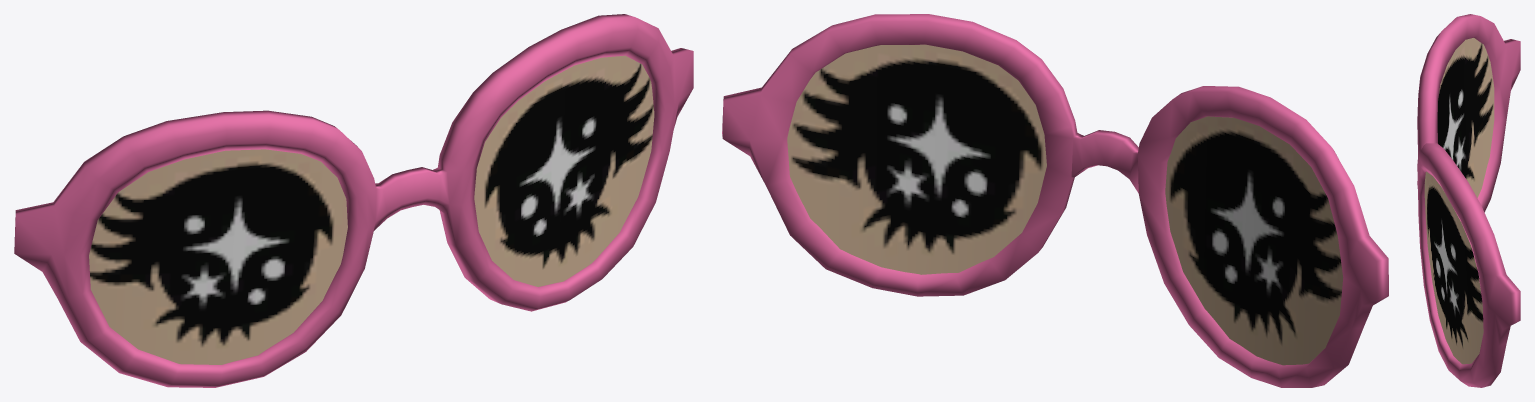
Rendered from AccessoryGlassEyes1.glb.
3 views of the same model, side by side, from view 1: azimuth 30°, elevation 25°; view 2: azimuth 150°, elevation 25°; view 3: azimuth 270°, elevation 25° (orthographic). The views are drawn at different scales.
Parts seen in each view (by area): view 1: Accessory__mAccessory; view 2: Accessory__mAccessory; view 3: Accessory__mAccessory.
Part boxes in pixels (x1=…): Accessory__mAccessory: x1=14, y1=14, x2=693, y2=387; Accessory__mAccessory: x1=722, y1=14, x2=1388, y2=387; Accessory__mAccessory: x1=1417, y1=14, x2=1520, y2=387.
Bounding box in the file's own units: 6.38 × 2.48 × 1.09.
Materials: 1 (1 with a texture image).
